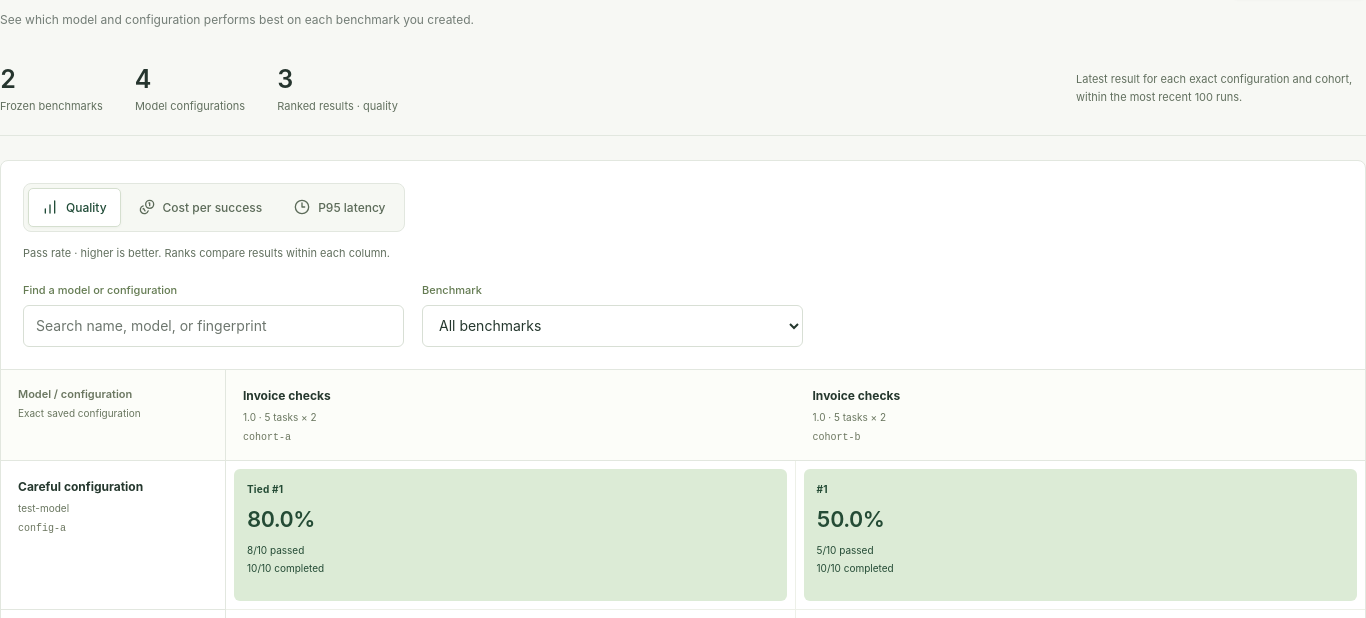
Test: benchmark ranking matrix › opens evidence for a selected cell and links to the encoded source experiment
The width and height of the screenshot is (1366, 618).
Click the button with aria-label "Careful configuration, Invoice checks, Quality: 50.0%, #1" at x=850, y=519, box [804,469,1357,601]
(page scrolled)
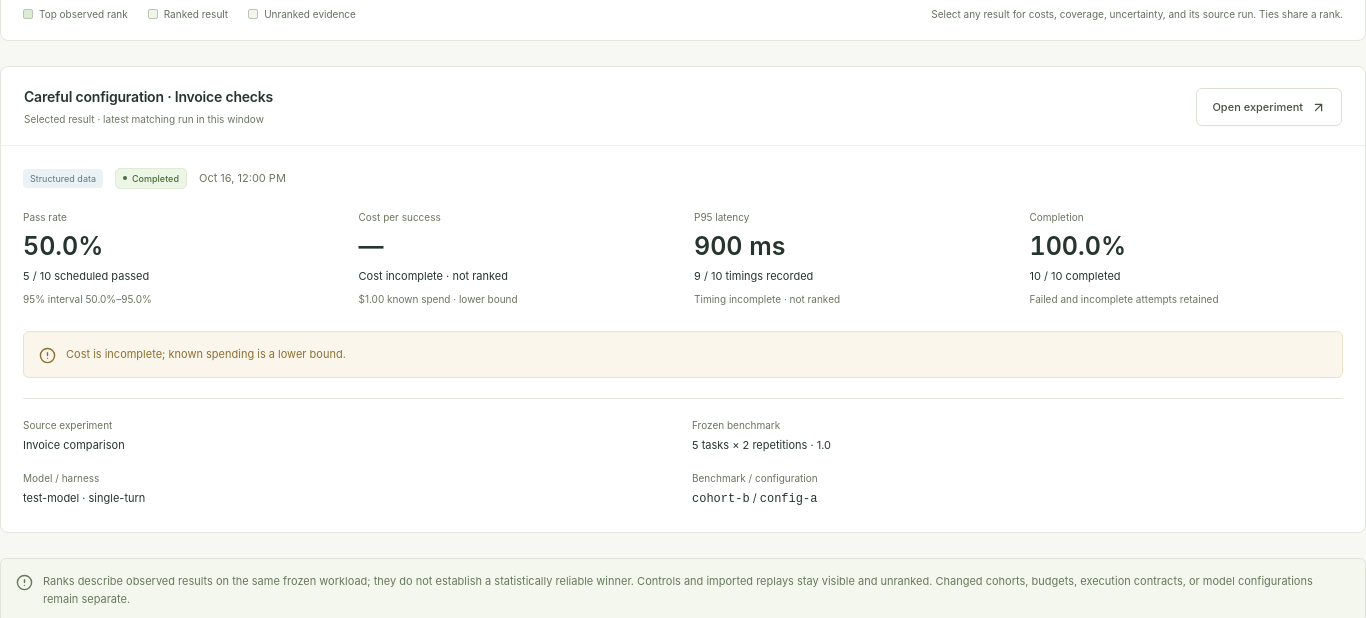
Check: the text "$1.00 known spend · lower bound" is shown, box [358,293,518,305]
Check: the text "Cost incomplete · not ranked" is shown, box [358,269,508,283]
Check: the text "9 / 10 timings recorded" is shown, box [694,269,813,283]
